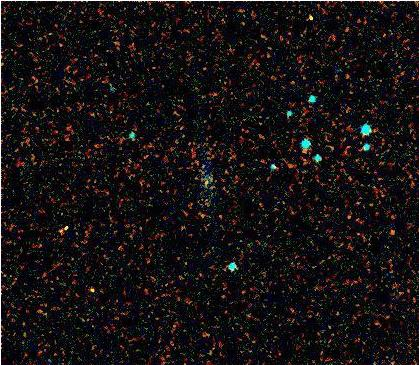star: (190, 168, 220, 198)
